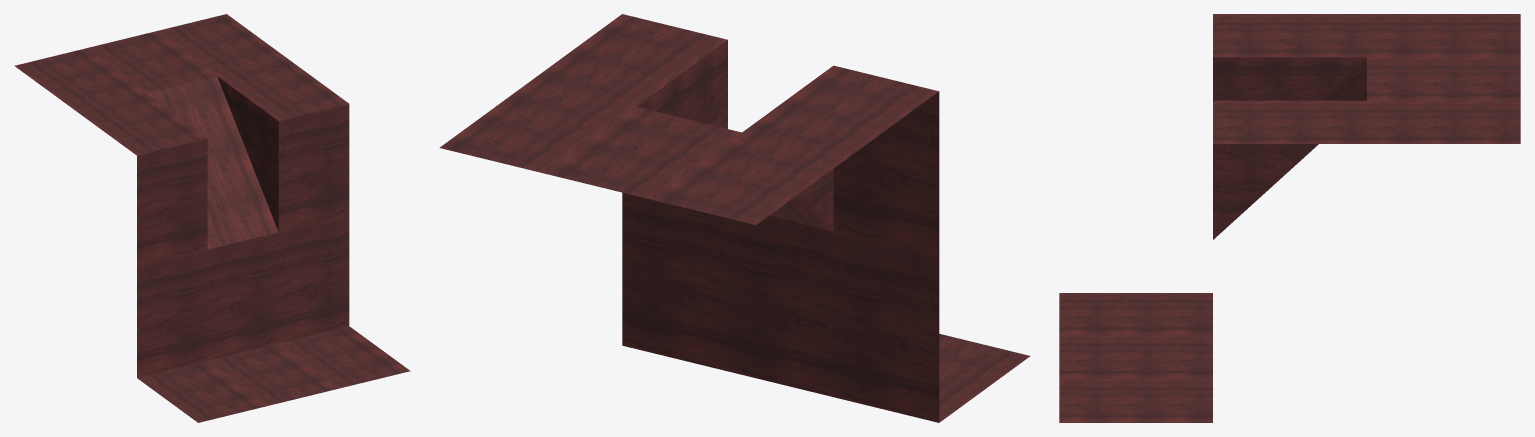
File: RoofSmallV3.fbx
3 views of the same model, side by side, from view 1: azimuth 30°, elevation 25°; view 2: azimuth 150°, elevation 25°; view 3: azimuth 270°, elevation 25° (orthographic). The views are drawn at different scales.
Visible parts, largest first — view 1: RoofSmall; view 2: RoofSmall; view 3: RoofSmall.
Part boxes in pixels (bbox=[...]): RoofSmall: bbox=[14, 14, 410, 422]; RoofSmall: bbox=[439, 14, 1030, 422]; RoofSmall: bbox=[1059, 14, 1520, 422].
Bounding box in the file's own units: 2 × 2 × 3.
